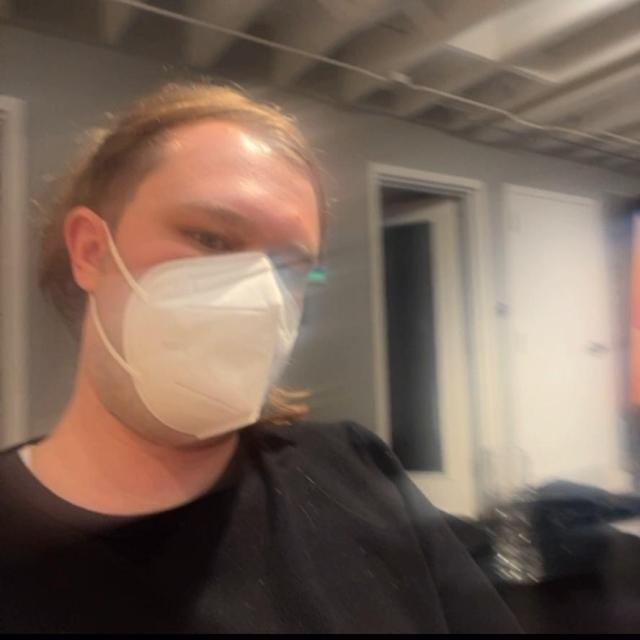no-helmet: (13, 65, 419, 530)
